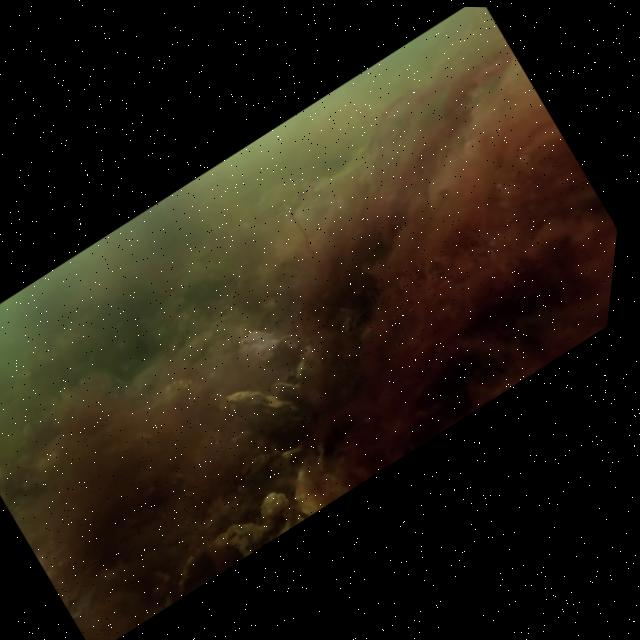Oyster-Closed: (220, 384, 308, 427)
Oyster-Indeterminate: (174, 486, 296, 595)
